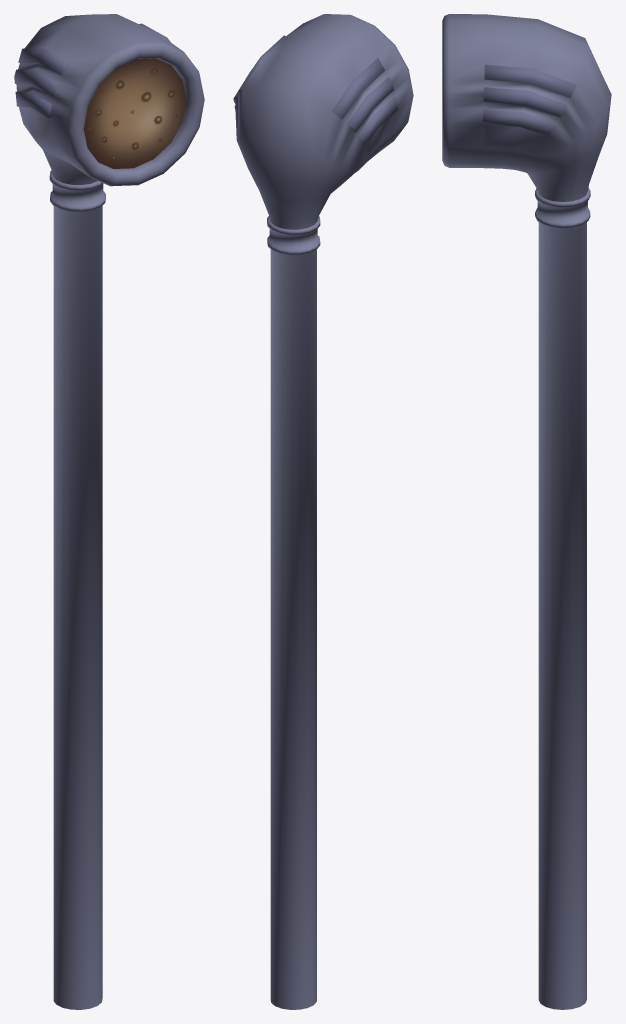
File: Voice Trumpet.fbx
The picture shows the model from 3 angles, left to right: view 1: azimuth 30°, elevation 25°; view 2: azimuth 150°, elevation 25°; view 3: azimuth 270°, elevation 25°; orthographic projection. The views are drawn at different scales.
Visible parts, largest first — view 1: trumpet; view 2: trumpet; view 3: trumpet.
Boxes of the visible parts, <box> form: trumpet: <box>14,14,204,1009</box>; trumpet: <box>233,14,413,1009</box>; trumpet: <box>442,14,611,1009</box>.
Size of the model in its own units: 34.85 by 238 by 37.36.
Materials: 3 (1 with a texture image).
